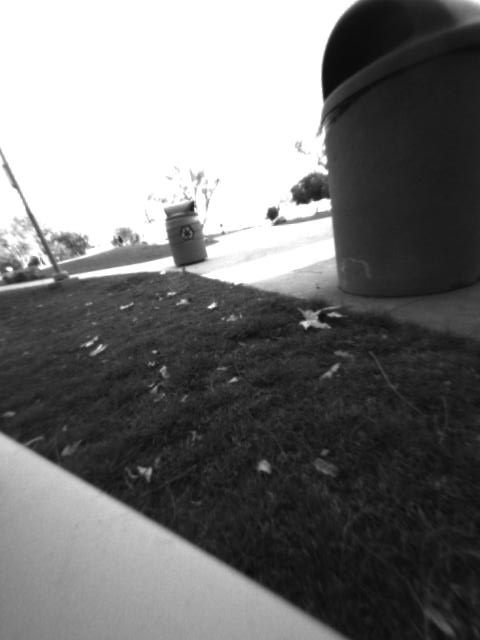trashcan: (306, 1, 480, 302)
